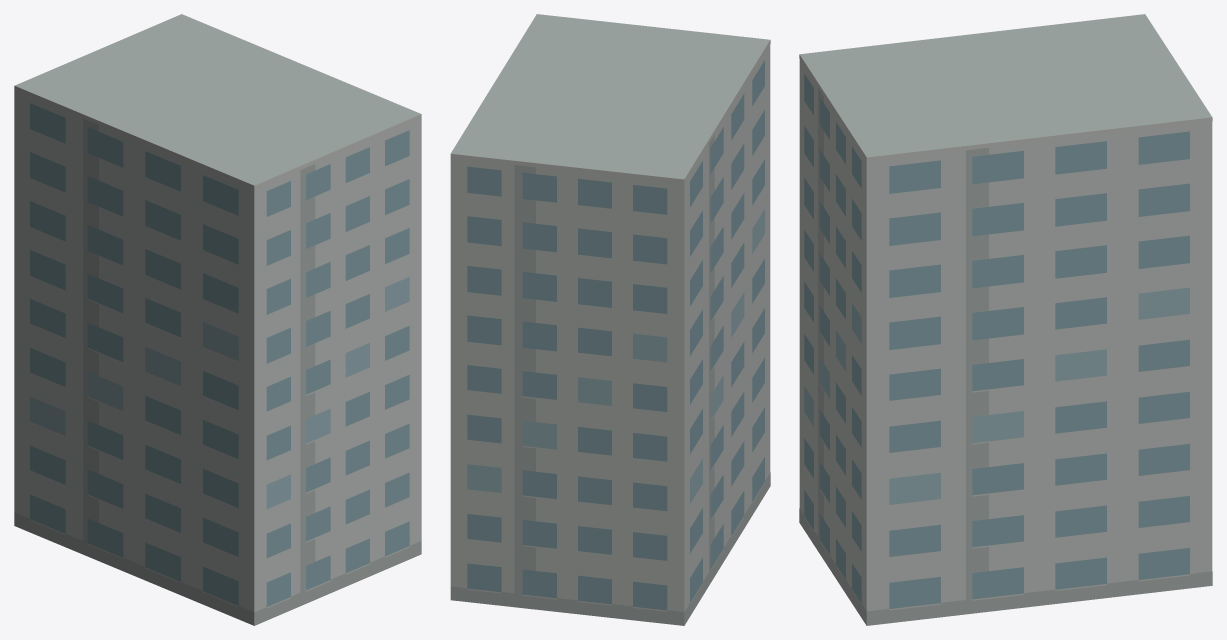
Rendered from residential-579302da-6f64-4d00-add8-b0220e21a107.glb.
3 views of the same model, side by side, from view 1: azimuth 30°, elevation 25°; view 2: azimuth 150°, elevation 25°; view 3: azimuth 270°, elevation 25° (orthographic). The views are drawn at different scales.
Parts seen in each view (by area): view 1: residential-579302da-6f64-4d00-add8-b0220e21a107.tmp; view 2: residential-579302da-6f64-4d00-add8-b0220e21a107.tmp; view 3: residential-579302da-6f64-4d00-add8-b0220e21a107.tmp.
Part boxes in pixels (bbox=[...]): residential-579302da-6f64-4d00-add8-b0220e21a107.tmp: bbox=[14, 14, 421, 625]; residential-579302da-6f64-4d00-add8-b0220e21a107.tmp: bbox=[450, 14, 770, 625]; residential-579302da-6f64-4d00-add8-b0220e21a107.tmp: bbox=[799, 14, 1212, 625].
Size of the model in its own units: 17.09 by 26 by 20.78.
